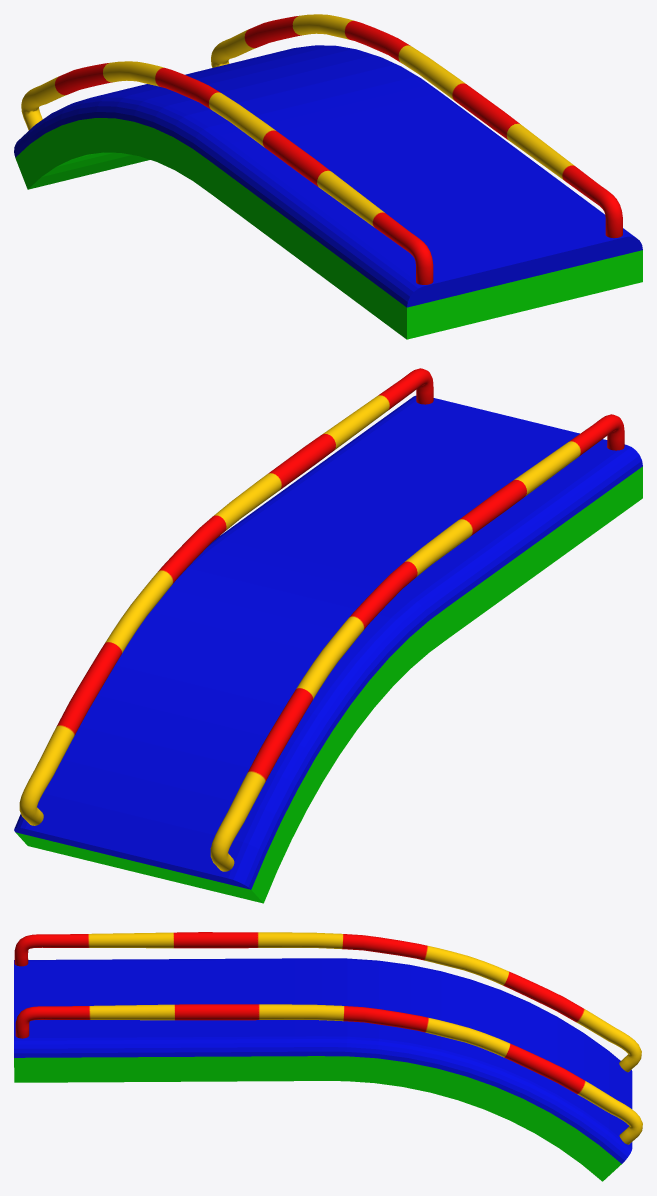
3 renders of one model, top to bottom at view 1: azimuth 30°, elevation 25°; view 2: azimuth 150°, elevation 25°; view 3: azimuth 270°, elevation 25°, orthographic. The views are drawn at different scales.
Parts seen in each view (by area): view 1: plank2, pipe4, pip3; view 2: plank2, pip3, pipe4; view 3: plank2, pip3, pipe4.
Boxes of the visible parts, bbox=[...] form: plank2: bbox=[14, 45, 642, 339]; pipe4: bbox=[21, 61, 433, 284]; pip3: bbox=[211, 14, 622, 238]; plank2: bbox=[14, 395, 642, 903]; pip3: bbox=[19, 368, 433, 825]; pipe4: bbox=[210, 414, 624, 871]; plank2: bbox=[14, 958, 632, 1181]; pip3: bbox=[15, 1004, 642, 1144]; pipe4: bbox=[14, 932, 641, 1072].
Bounding box in the file's own units: 500 × 438 × 1487.
